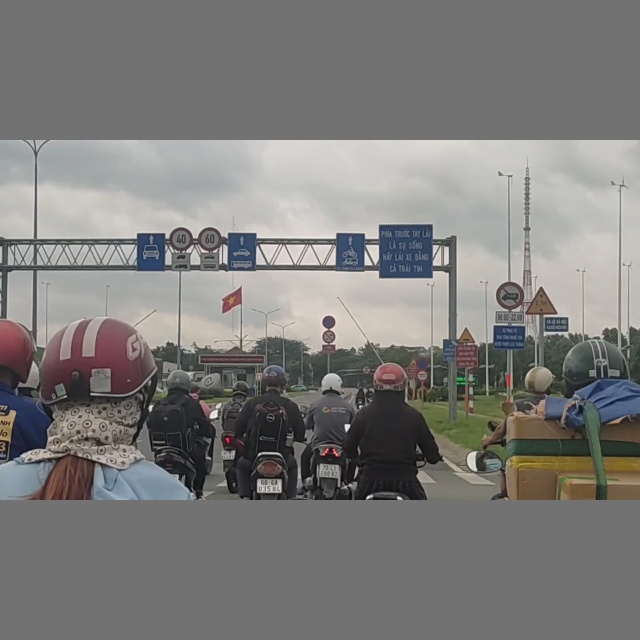Camera: (443, 339, 457, 361)
P.106a*Xe tai: (496, 281, 524, 309)
P.107: (361, 365, 371, 375)
P.111: (323, 330, 335, 344)
P.127*40: (169, 228, 193, 251)
P.127*60: (198, 227, 222, 250)
P.129: (417, 370, 429, 382)
P.130: (323, 315, 336, 329)
P.131a: (417, 355, 429, 369)
W.221b: (458, 327, 477, 344)
W.239b*: (526, 286, 559, 315)
